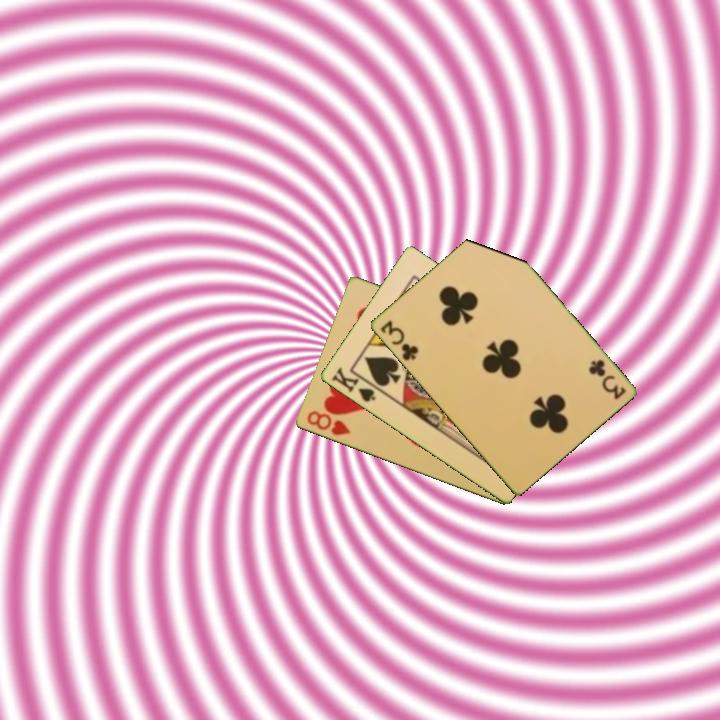3c: (376, 317, 421, 364), (585, 356, 629, 402)
8h: (303, 407, 353, 439)
Ks: (327, 363, 383, 405)
